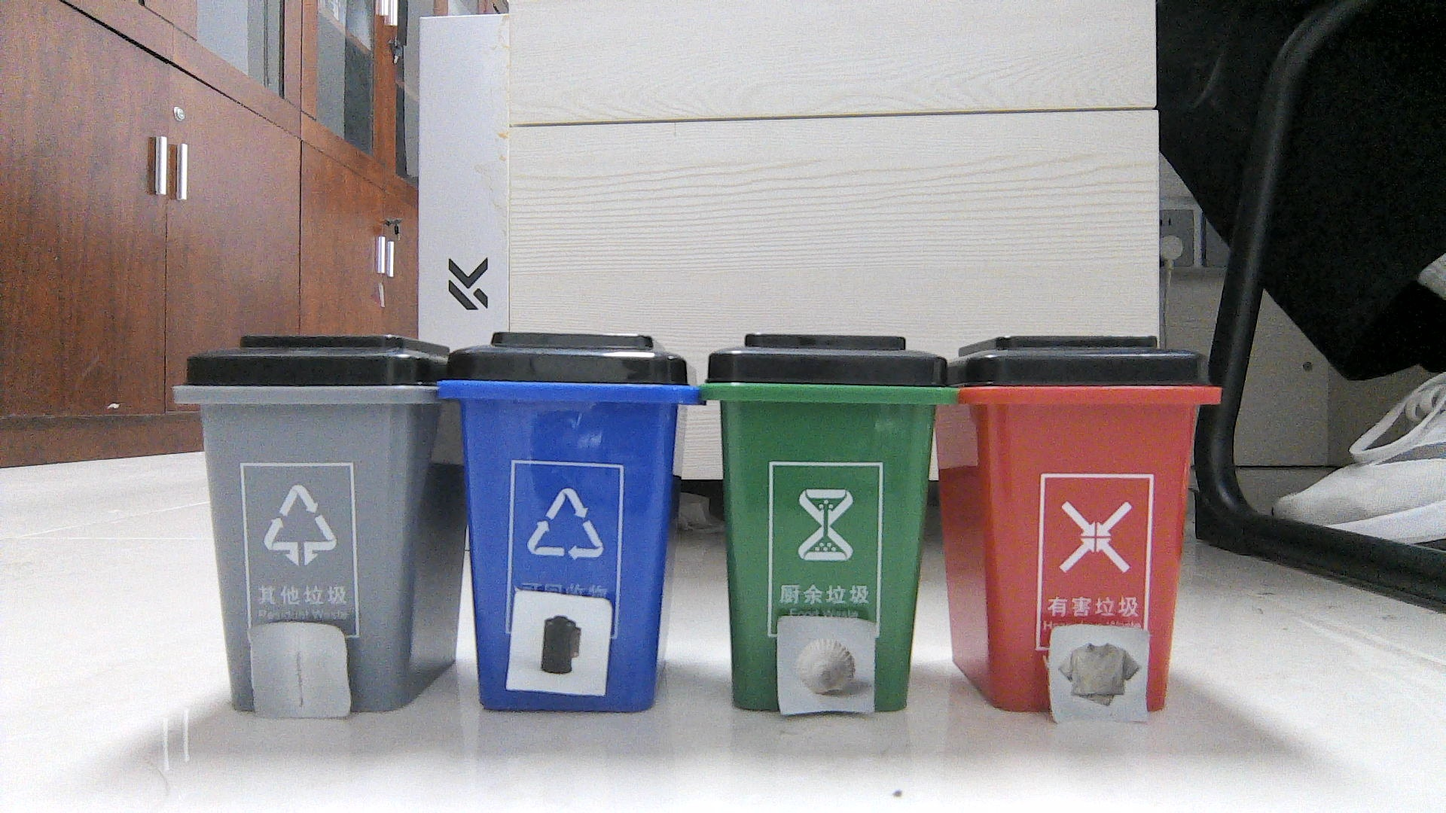hazardous_trash: (260, 629, 334, 709), (523, 606, 597, 686)
other_trash: (782, 624, 867, 700)
recyclable_trash: (1056, 631, 1143, 714)
